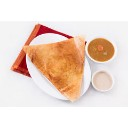dosa: (21, 41, 90, 101)
